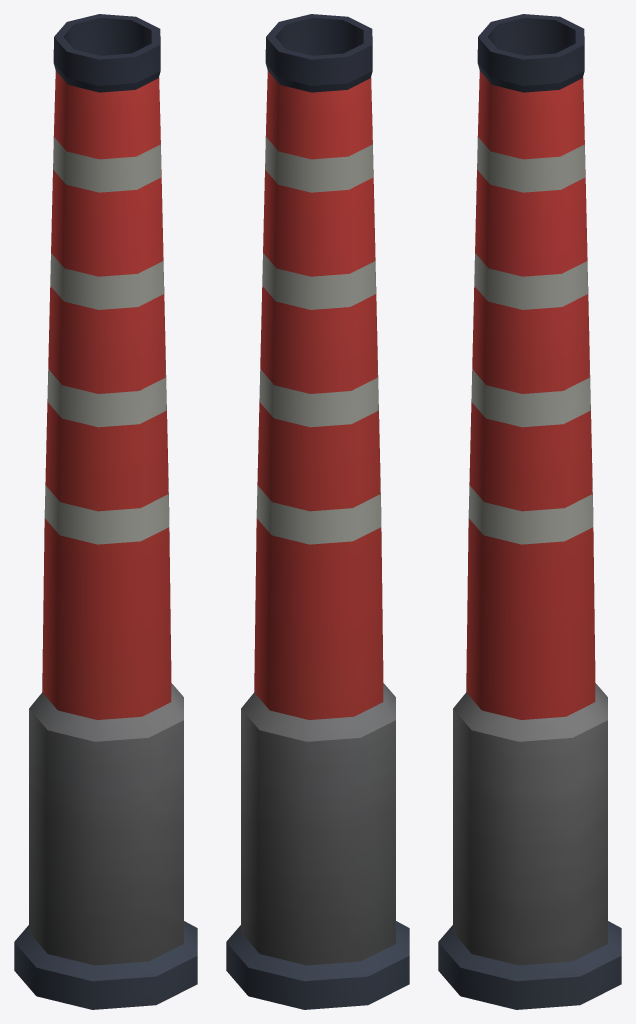
Rendered from ChimneyPowerPlant_3_A.fbx.
3 views of the same model, side by side, from view 1: azimuth 30°, elevation 25°; view 2: azimuth 150°, elevation 25°; view 3: azimuth 270°, elevation 25° (orthographic).
Visible parts, largest first — view 1: ChimneyPowerPlant_3_A; view 2: ChimneyPowerPlant_3_A; view 3: ChimneyPowerPlant_3_A.
Part boxes in pixels (x1=…): ChimneyPowerPlant_3_A: x1=14, y1=14, x2=197, y2=1009; ChimneyPowerPlant_3_A: x1=226, y1=14, x2=409, y2=1009; ChimneyPowerPlant_3_A: x1=438, y1=14, x2=621, y2=1009.
Size of the model in its own units: 534 by 2952 by 526.
